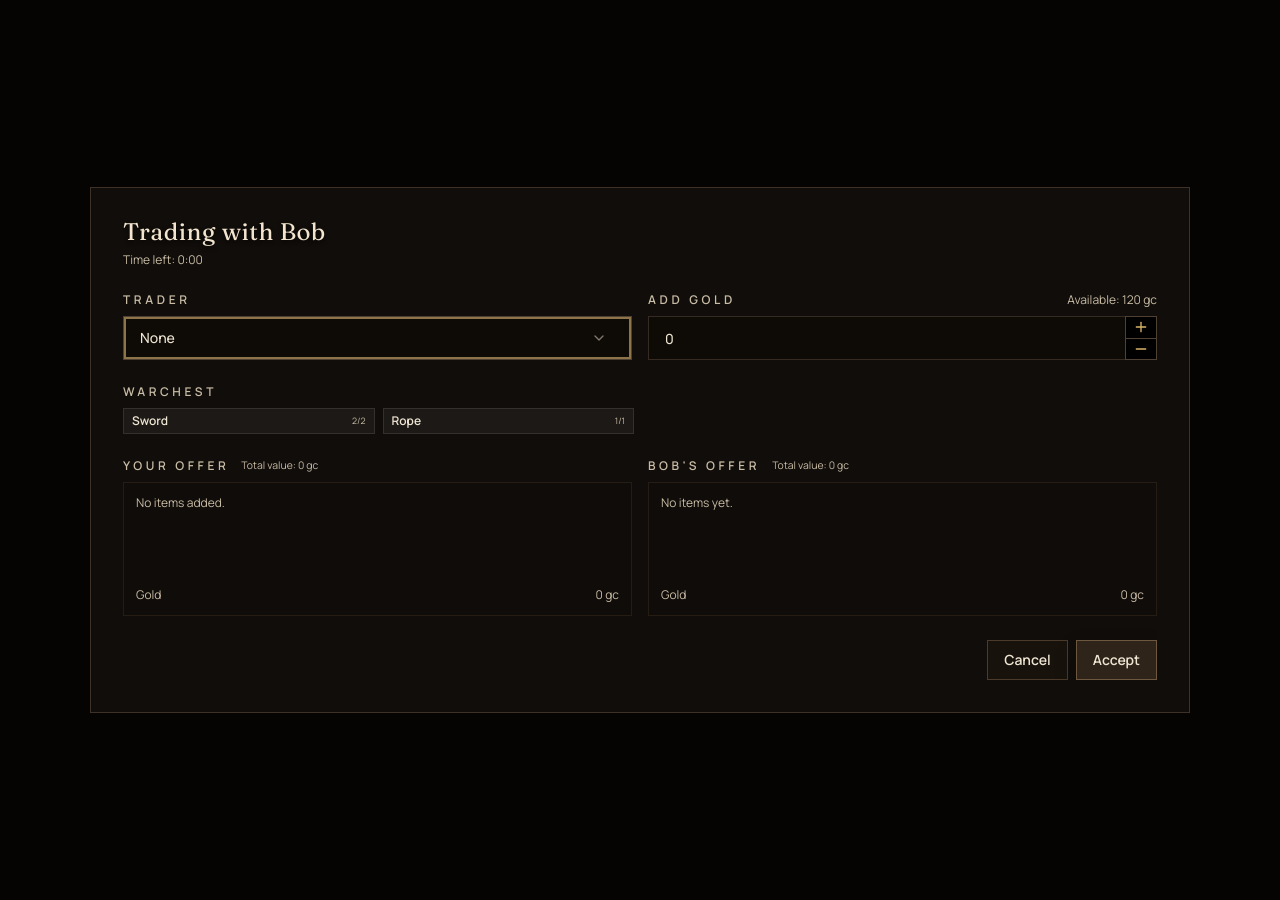
Test: TradeSessionDialog: offer autosave › keeps a click made while the save is in flight when the save's answer arrives, then saves it too (BUG-42)
Click the button "Sword 2/2".
click(249, 421)  # box x1=123 y1=408 x2=374 y2=434
Wait 600 ms
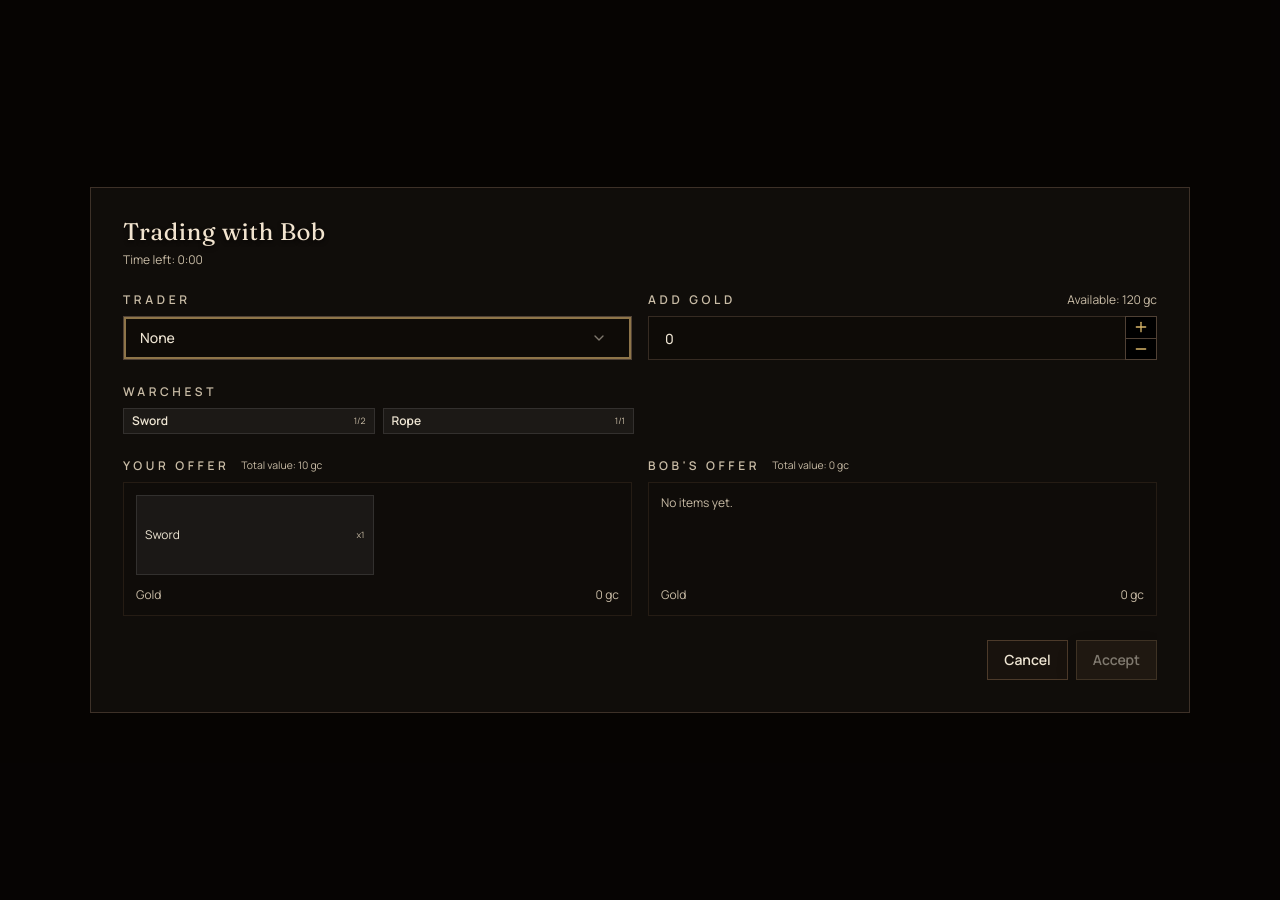
Click the button "Sword 1/2".
click(249, 421)  # box x1=123 y1=408 x2=374 y2=434
Wait 1000 ms
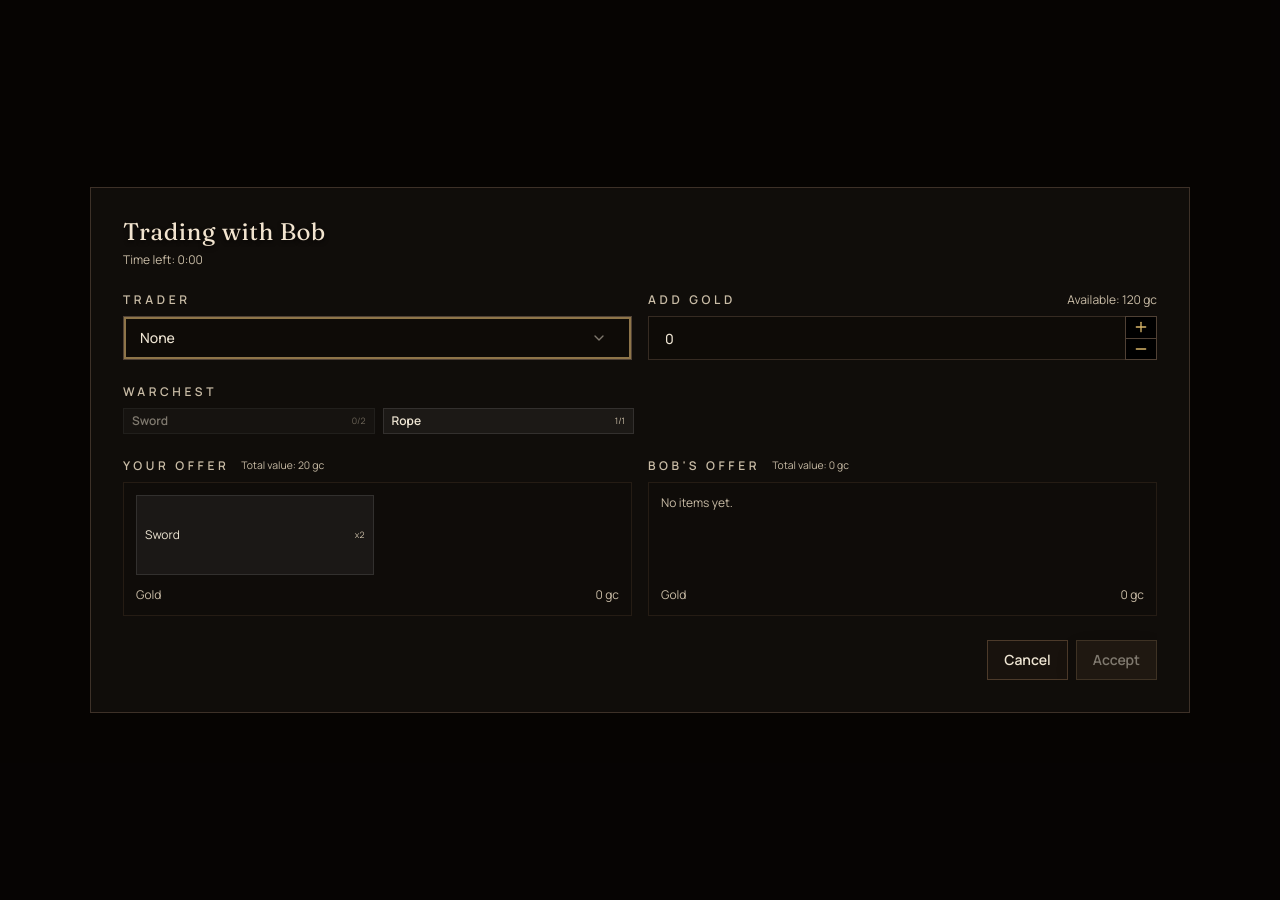
Expected: the button "Sword x2" is shown, x1=136 y1=495 x2=374 y2=575
